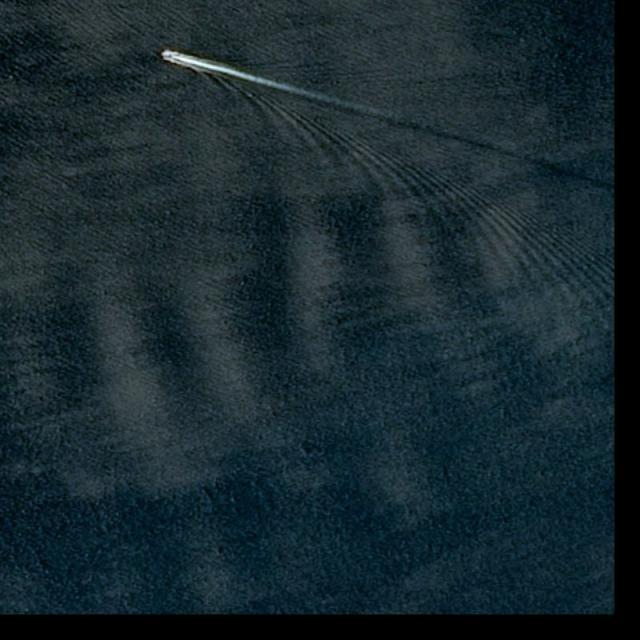ship: (162, 54, 173, 58)
